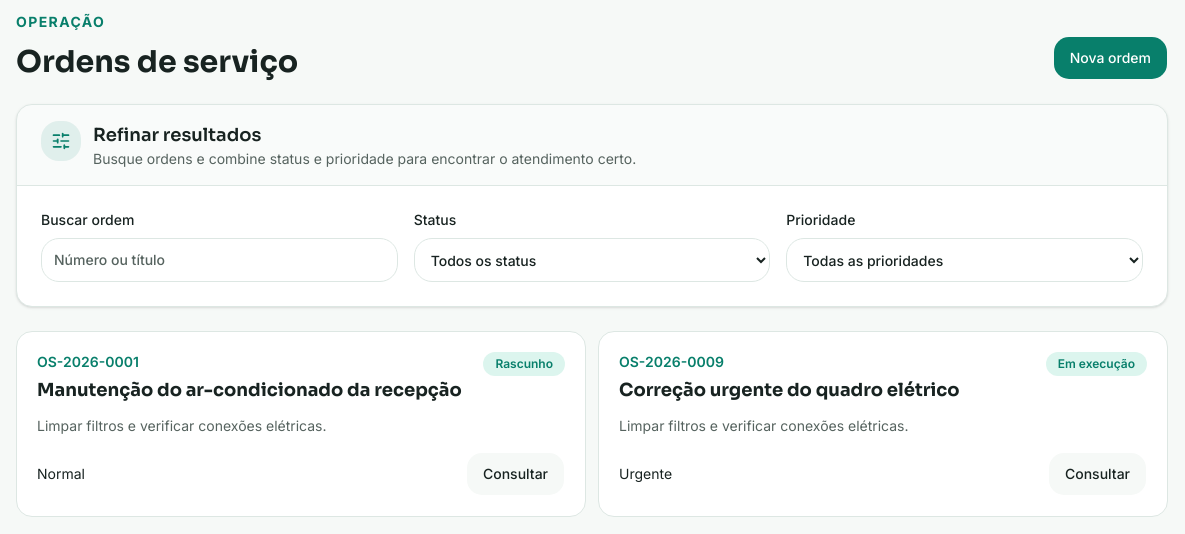
Test: work order dialogs › filters work orders immediately without navigation or a clear-filters row
Later steps or results of the test are not shown.
Expected: the heading "Manutenção do ar-condicionado da recepção" is shown, [37,376,462,404]
Type "quadro" into the field with placeholder "Número ou título" at (219,260), box [41,238,398,282]
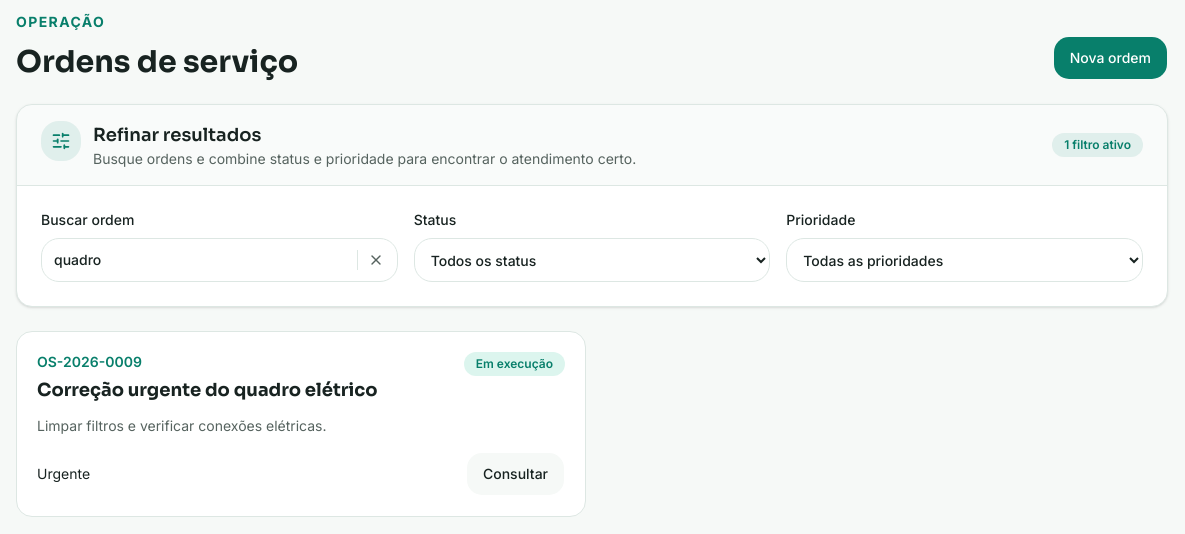
Expected: the button named "Limpar busca" is shown, [358,242,394,278]
